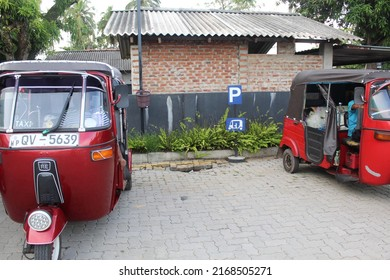threewheel: (1, 61, 132, 261), (276, 68, 390, 186)
